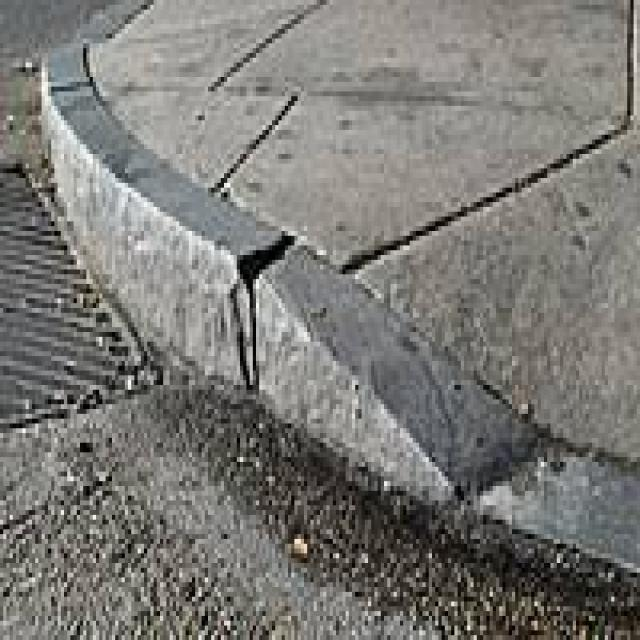curb: (202, 208, 485, 495), (44, 72, 189, 322)
